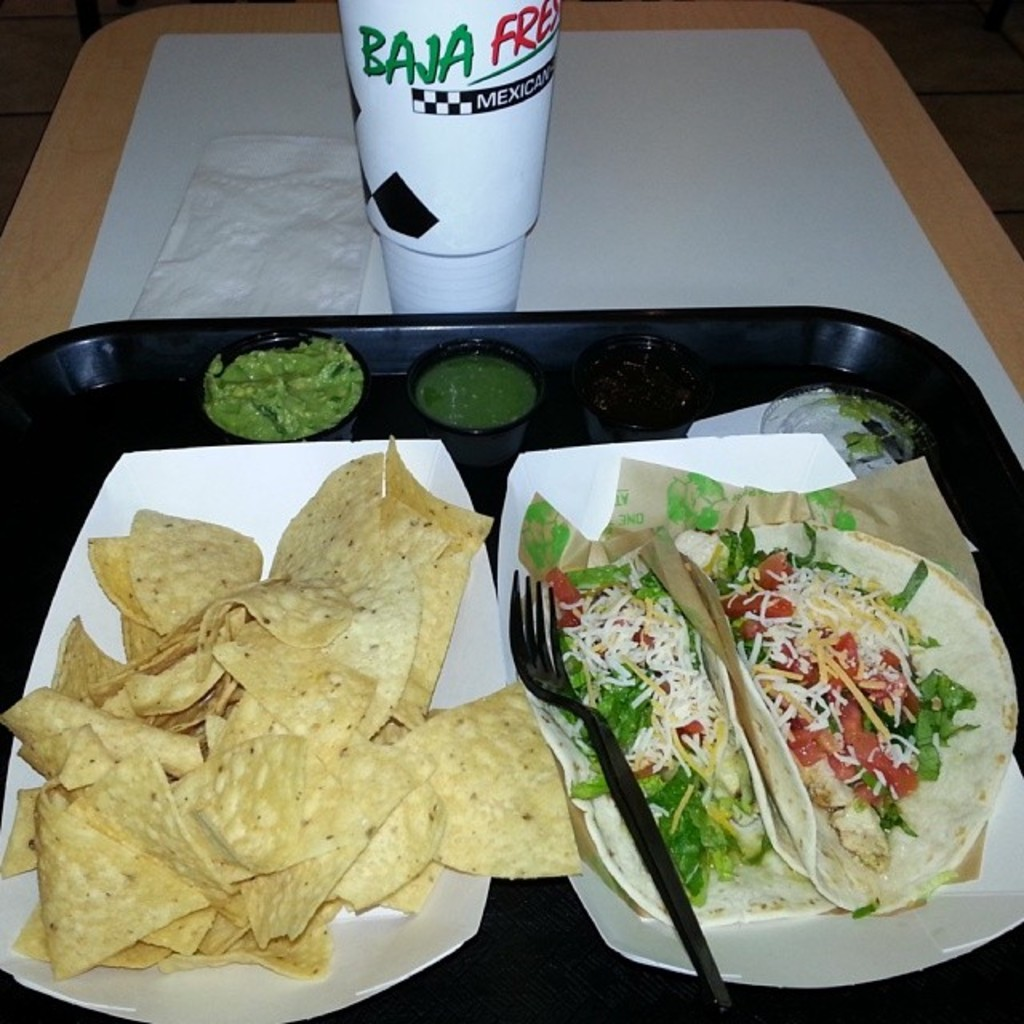taco: (672, 518, 1018, 918), (547, 541, 834, 934)
